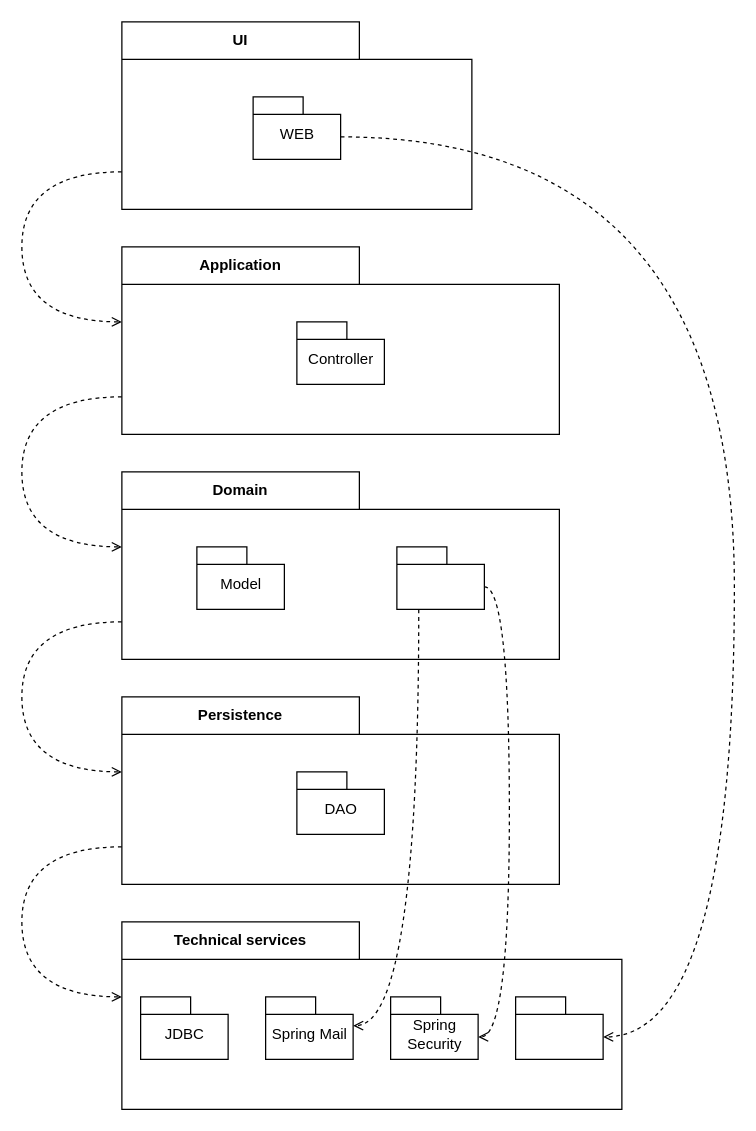
This 756x1131 diagram has some shape labels left out. Here are the shapes that lost their labels. From the top down, the centre of each, then its label:
At [440,577]: "Service".
At [558,1027]: "API".
